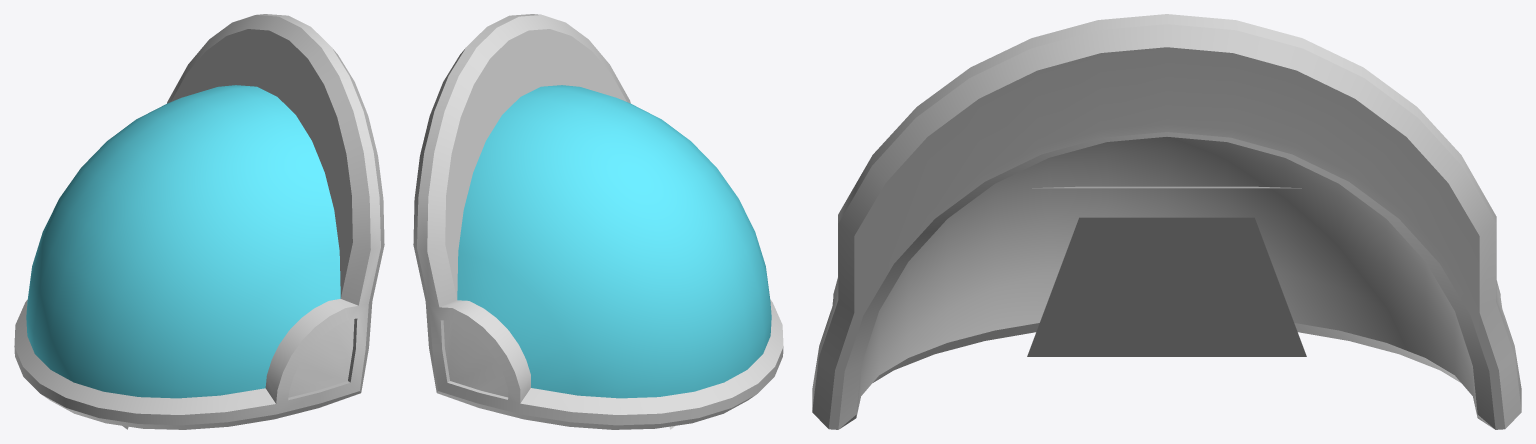
The model's file is Mod_Pauldron_R_Yuri1.fbx.
3 views of the same model, side by side, from view 1: azimuth 30°, elevation 25°; view 2: azimuth 150°, elevation 25°; view 3: azimuth 270°, elevation 25° (orthographic). The views are drawn at different scales.
Visible parts, largest first — view 1: Mod_Pauldron_R_Yuri1; view 2: Mod_Pauldron_R_Yuri1; view 3: Mod_Pauldron_R_Yuri1.
Part boxes in pixels (x1,y1,x2,y2): Mod_Pauldron_R_Yuri1: (14,14,384,429); Mod_Pauldron_R_Yuri1: (413,14,783,429); Mod_Pauldron_R_Yuri1: (812,14,1521,429).
Bounding box in the file's own units: 269 × 292 × 366.
